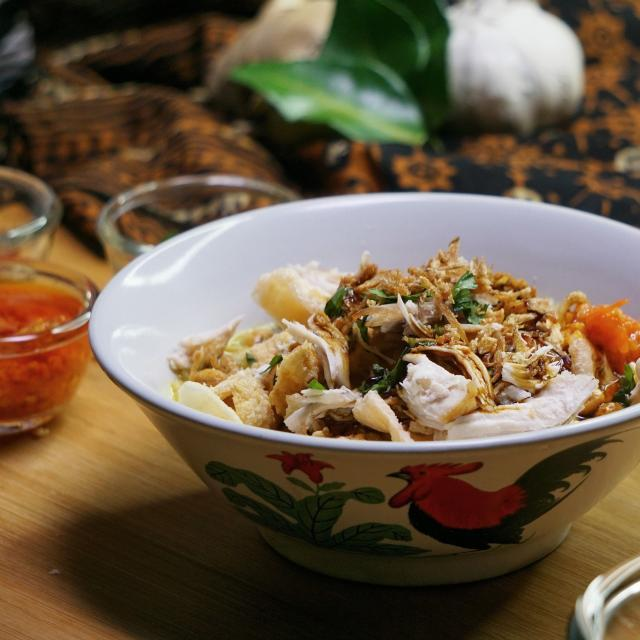bubur ayam: (162, 264, 640, 440)
mangkuk: (88, 190, 640, 590), (96, 172, 297, 275), (0, 256, 99, 436), (0, 165, 64, 262)
sambal: (0, 282, 84, 422)
